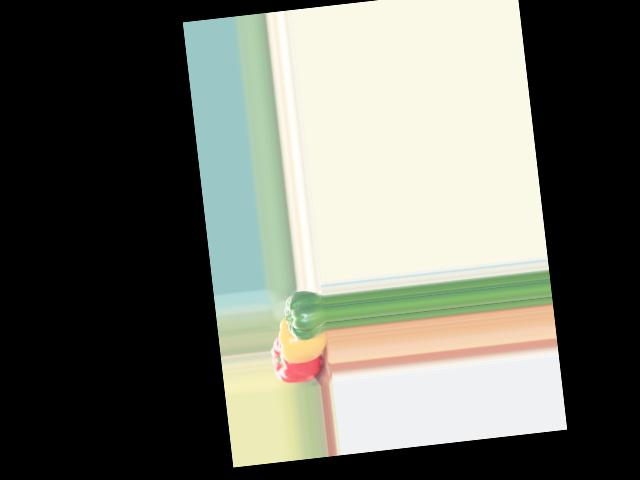bell_pepper: (269, 331, 330, 384)
